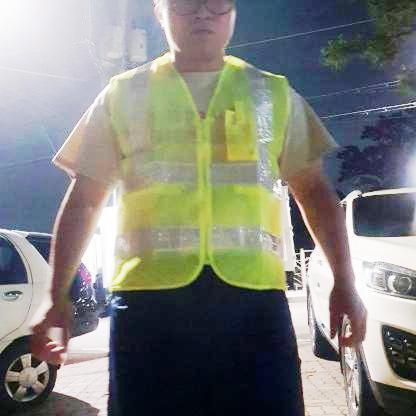vest: (111, 45, 287, 291)
